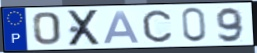0: (31, 11, 64, 47), (180, 6, 208, 45)
9: (215, 6, 246, 43)
A: (101, 9, 142, 45)
C: (141, 9, 174, 44)
X: (67, 8, 103, 48)
